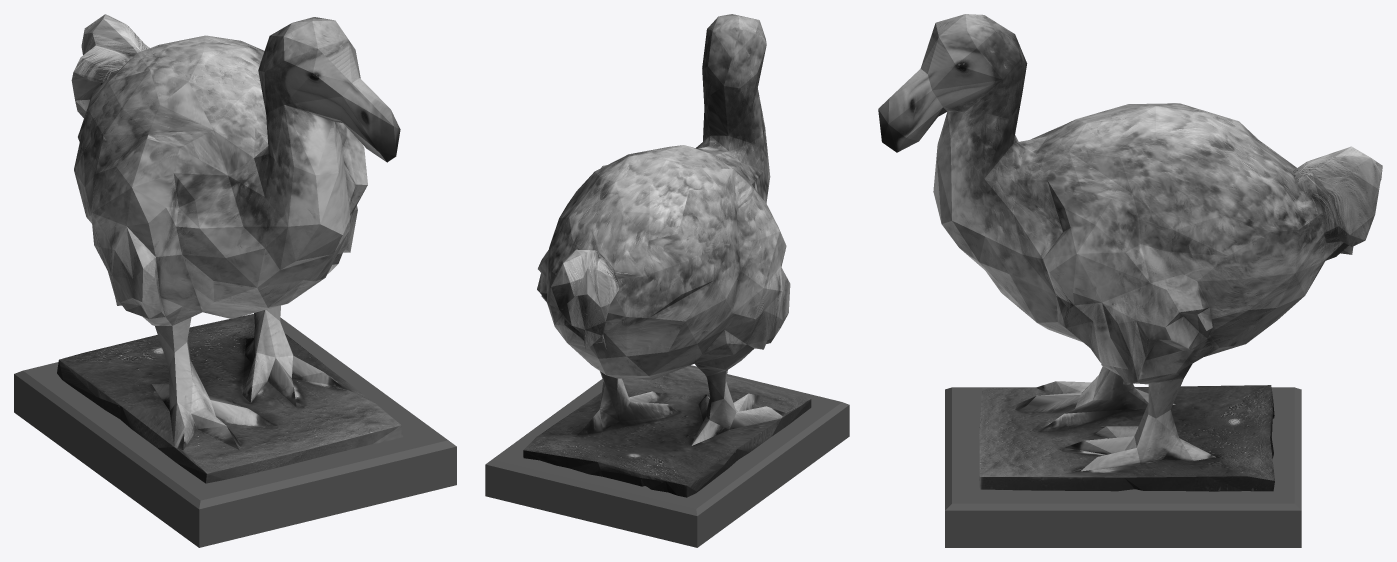
Rendered from dodo.glb.
3 views of the same model, side by side, from view 1: azimuth 30°, elevation 25°; view 2: azimuth 150°, elevation 25°; view 3: azimuth 270°, elevation 25° (orthographic). The views are drawn at different scales.
Visible parts, largest first — view 1: dodo, Cube_Cube.001; view 2: dodo, Cube_Cube.001; view 3: dodo, Cube_Cube.001.
Boxes of the visible parts, x1,y1,x2,y2 form: dodo: [57, 14, 403, 483]; Cube_Cube.001: [14, 317, 456, 547]; dodo: [523, 14, 811, 497]; Cube_Cube.001: [485, 365, 849, 547]; dodo: [878, 14, 1382, 491]; Cube_Cube.001: [945, 387, 1301, 547].
Size of the model in its own units: 5.26 by 9.48 by 9.2.
3 materials, 2 textured.
